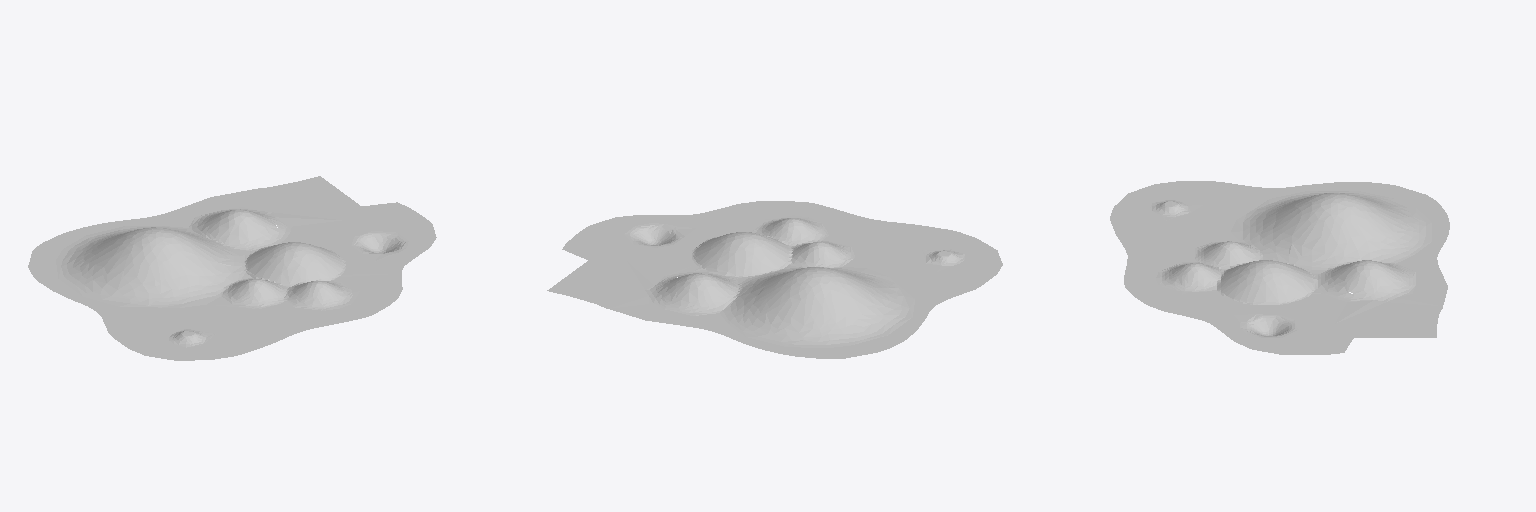
The model's file is first_island_collision_floor.obj.
The picture shows the model from 3 angles: view 1: azimuth 30°, elevation 25°; view 2: azimuth 150°, elevation 25°; view 3: azimuth 270°, elevation 25°; orthographic projection.
Parts seen in each view (by area): view 1: island_1.001; view 2: island_1.001; view 3: island_1.001.
Boxes of the visible parts, box(x1,y1,x2,y2) form: island_1.001: box(28, 176, 436, 360); island_1.001: box(547, 201, 1002, 358); island_1.001: box(1110, 181, 1449, 354).
Size of the model in its own units: 965 by 110 by 795.